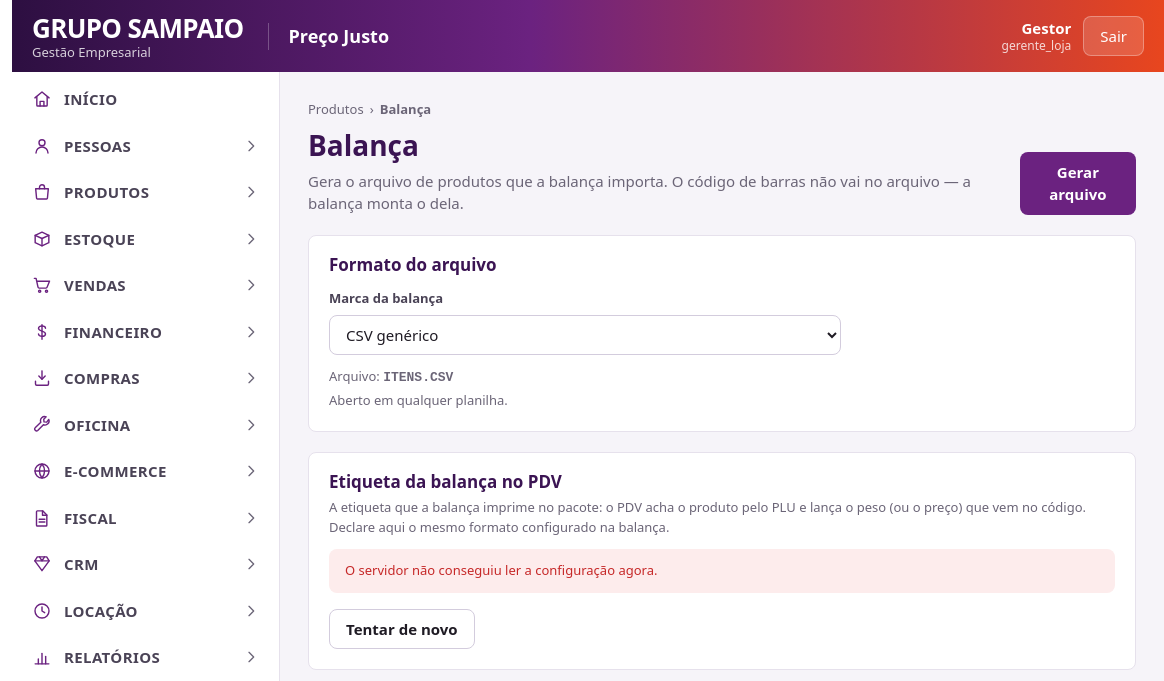
Test: a declaração que não carrega não derruba a tela › o erro fica no bloco, a lista de pesáveis continua, e "Tentar de novo" relê
The image size is (1164, 681).
Expected: the message shows "não conseguiu ler a configuração", left=345, top=561, right=657, bottom=579
Click the button "Tentar de novo": (402, 629) left=329, top=608, right=475, bottom=649
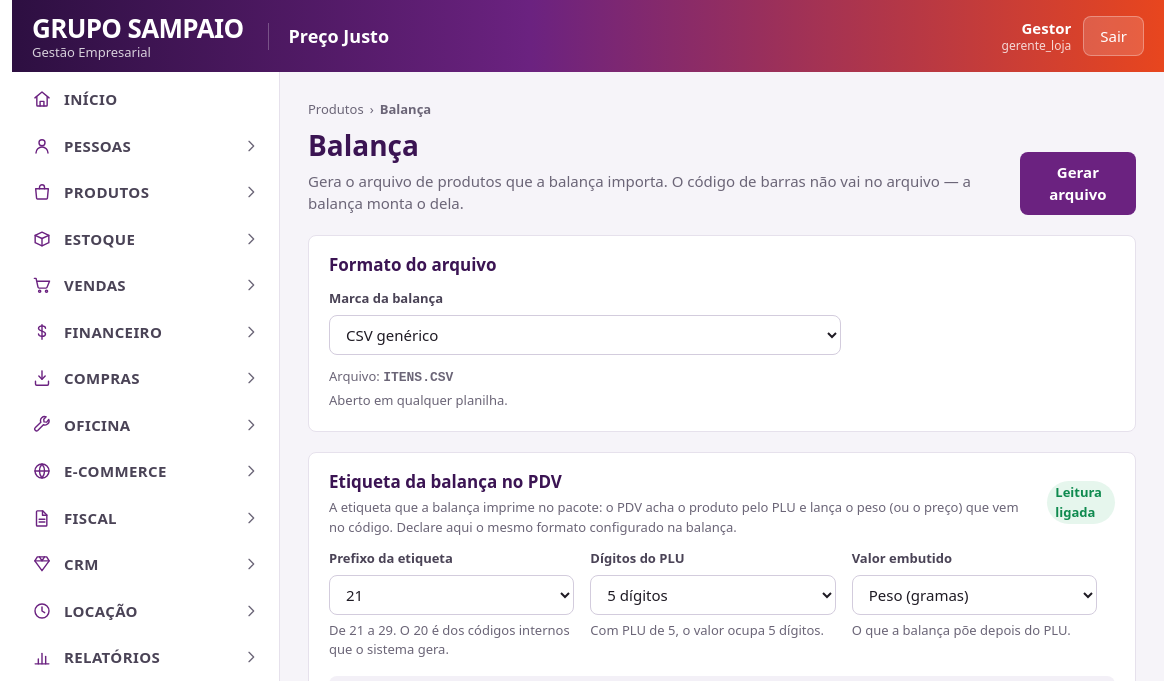
Expected: the text "Leitura ligada" is shown, left=1047, top=481, right=1115, bottom=524
Expected: the message "O servidor não conseguiu ler a configuração agora." is gone
